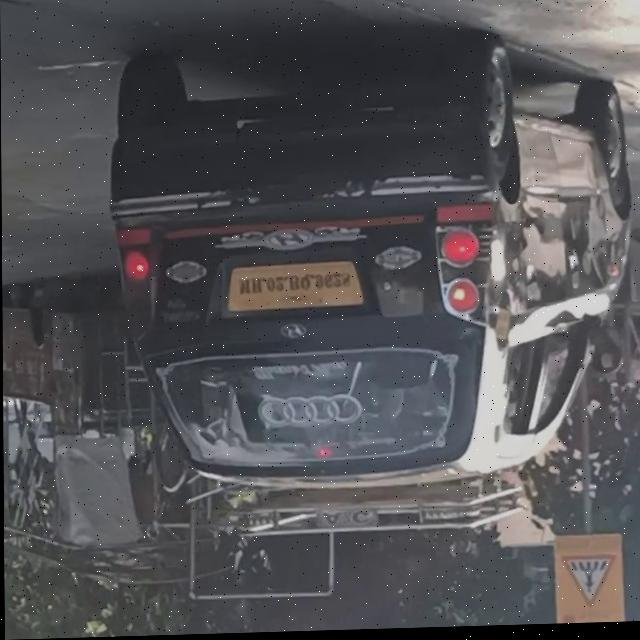plate: (219, 254, 374, 323)
